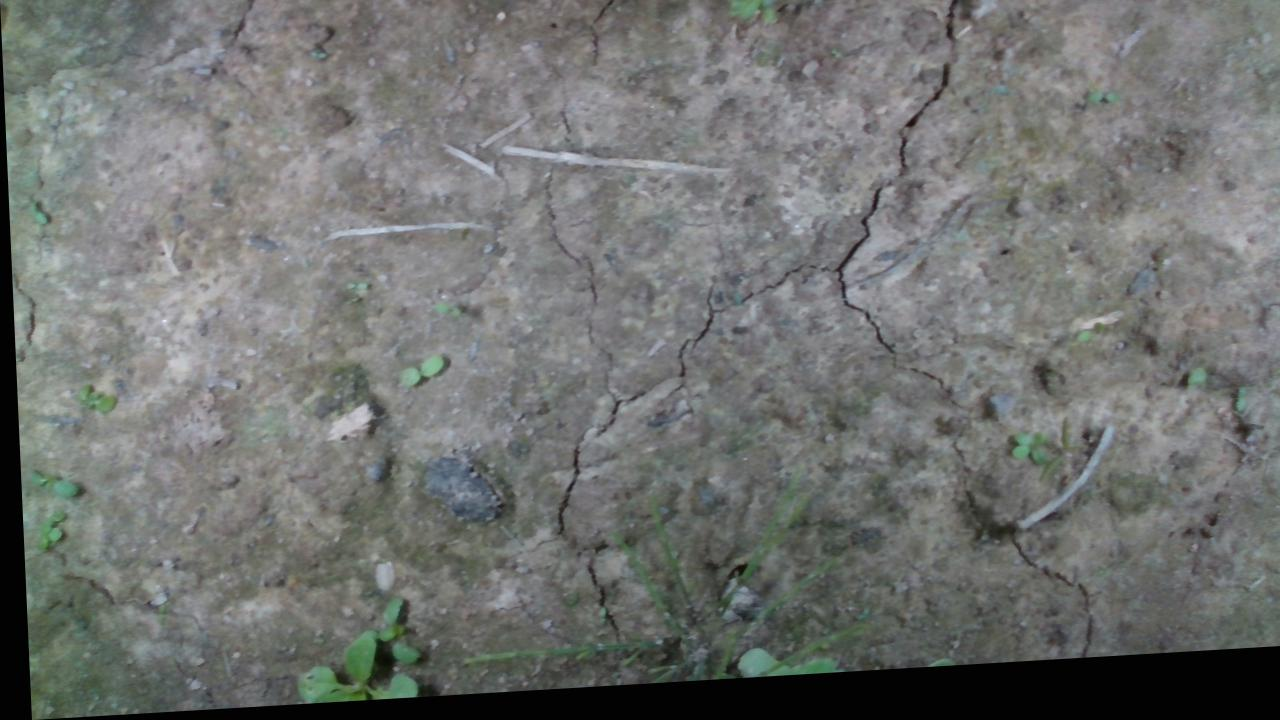weed: (390, 356, 442, 394), (20, 465, 73, 501), (70, 380, 115, 416), (1003, 439, 1044, 477), (1080, 101, 1118, 119), (339, 283, 366, 297)
